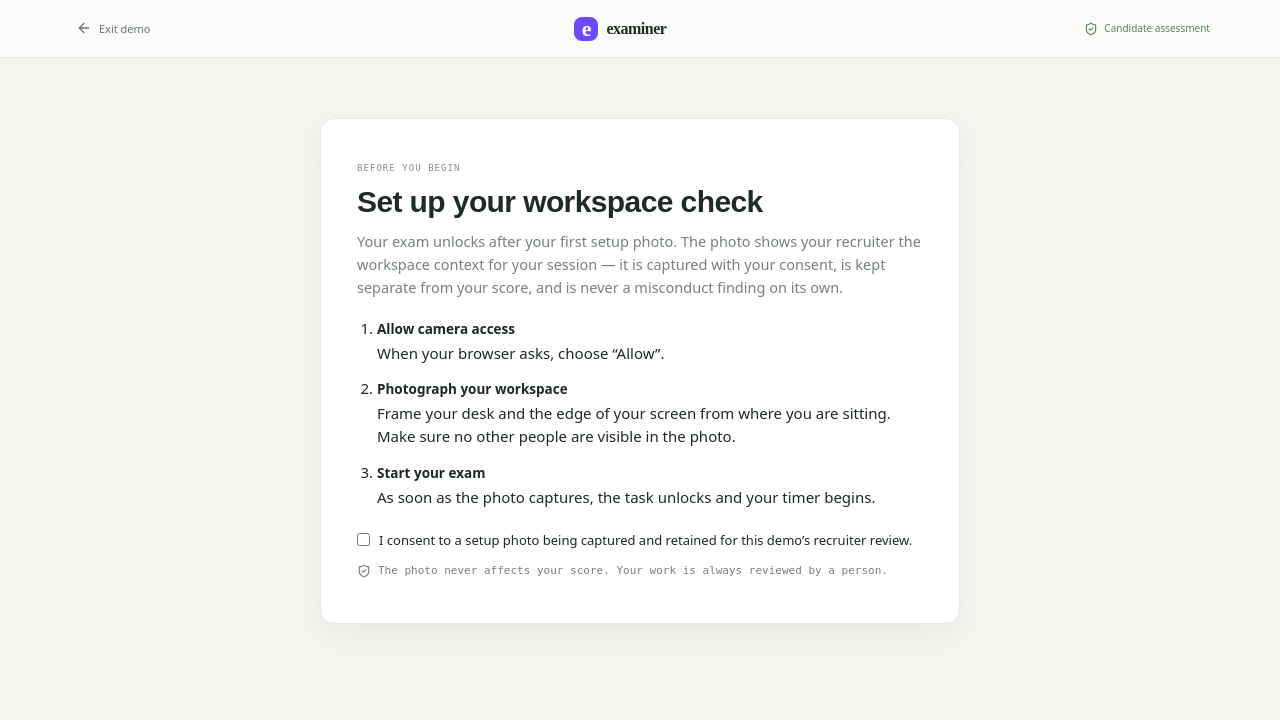
Test: CandidateExam › requires explicit consent and a successful camera photo before the exam starts
expect the text "setup photo being captured" is shown: met, box [379, 531, 912, 549]
expect the button "take start photo" is not shown: met
Click the checkbox at [364, 539], box [357, 533, 370, 546]
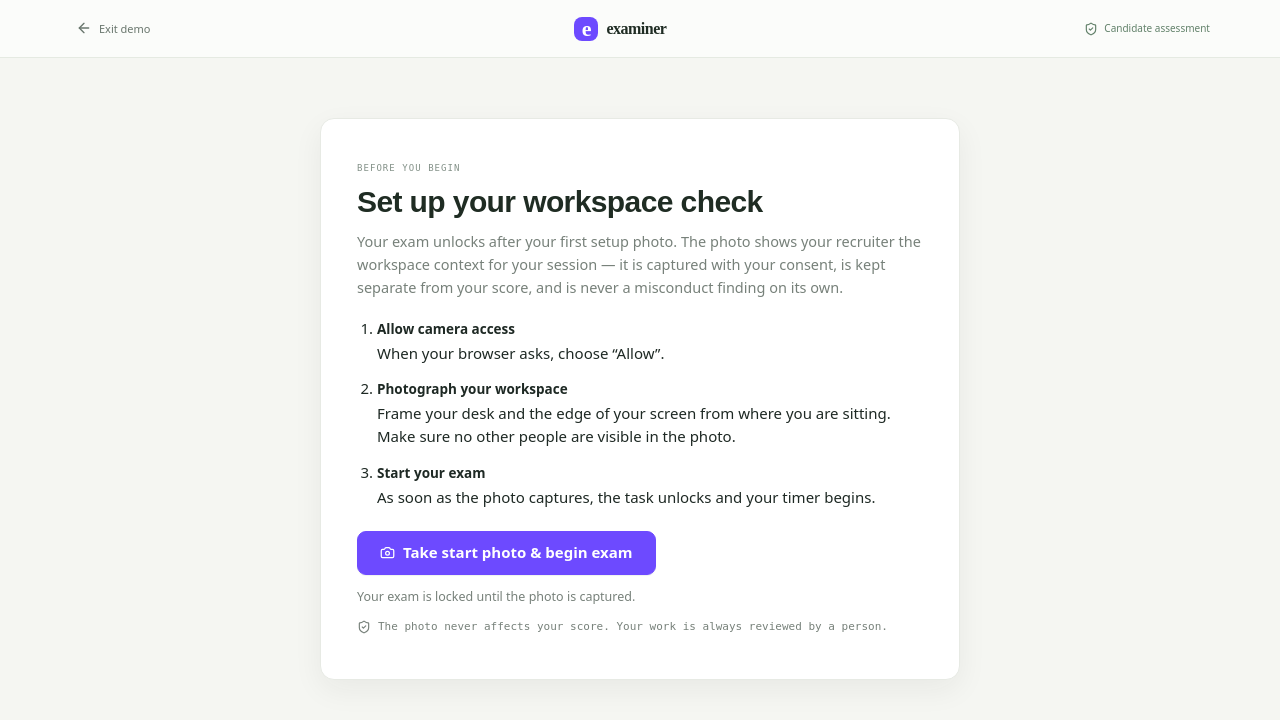
Click the button "Take start photo & begin exam" at [506, 553], box [357, 531, 656, 575]
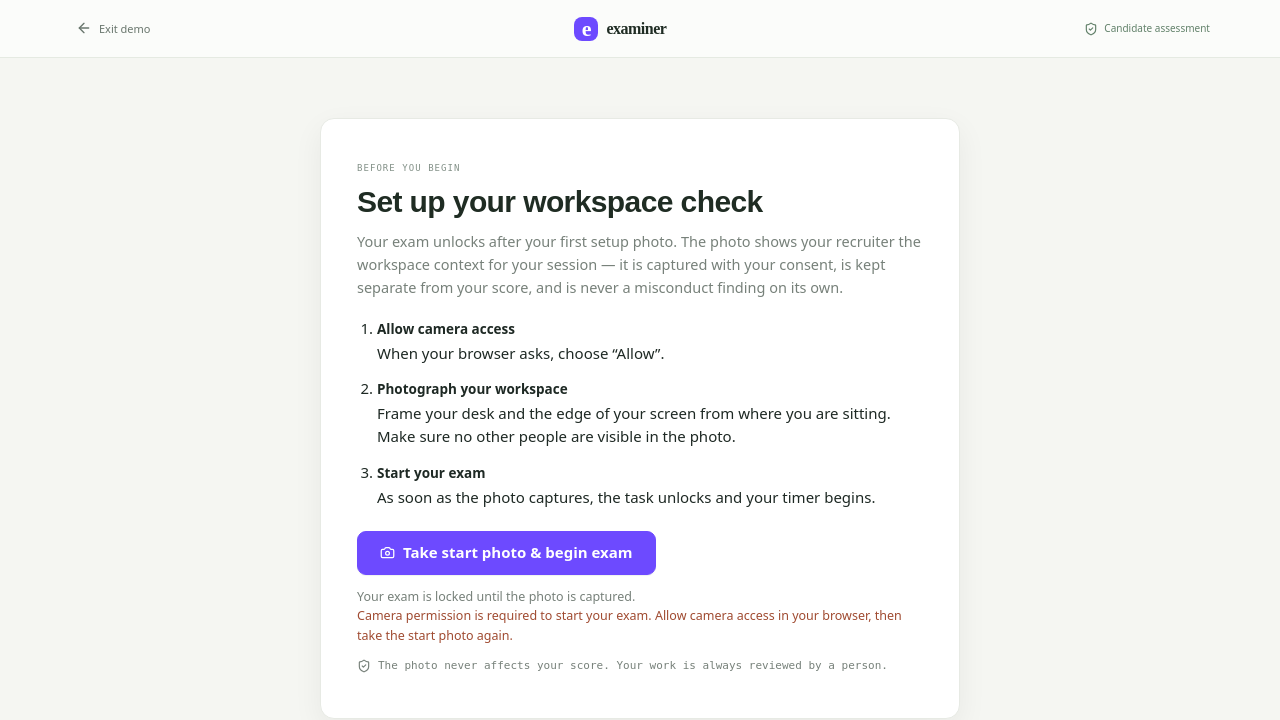
expect the message shows "Camera permission is required to start your exam": met, box [357, 607, 902, 644]
